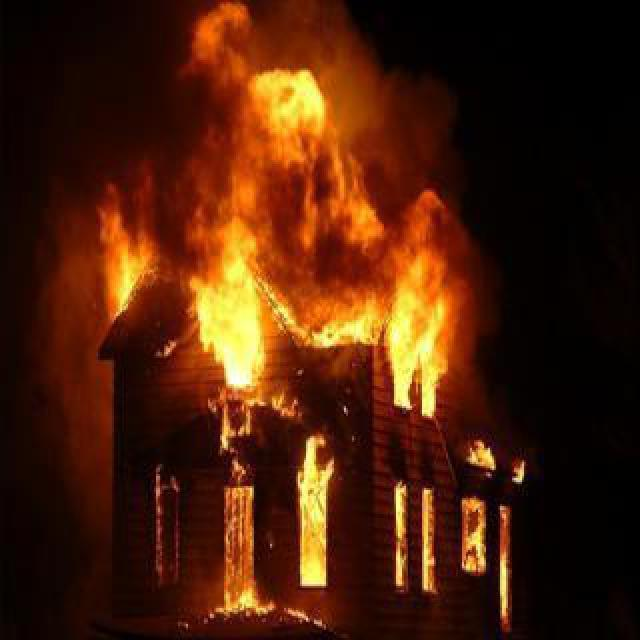Fire: (104, 66, 462, 414), (156, 416, 334, 624), (386, 438, 526, 630)
